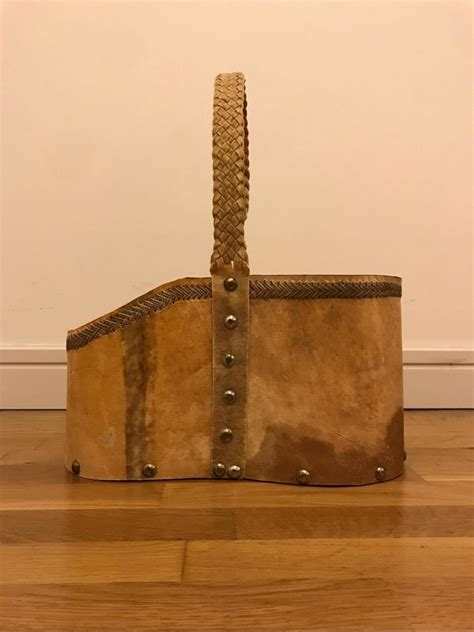cuero: (63, 70, 406, 486)
